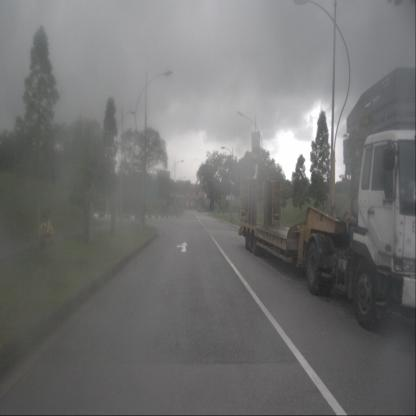vehicle-bicycle: (40, 206, 54, 247)
vehicle-truck: (238, 129, 415, 332)
